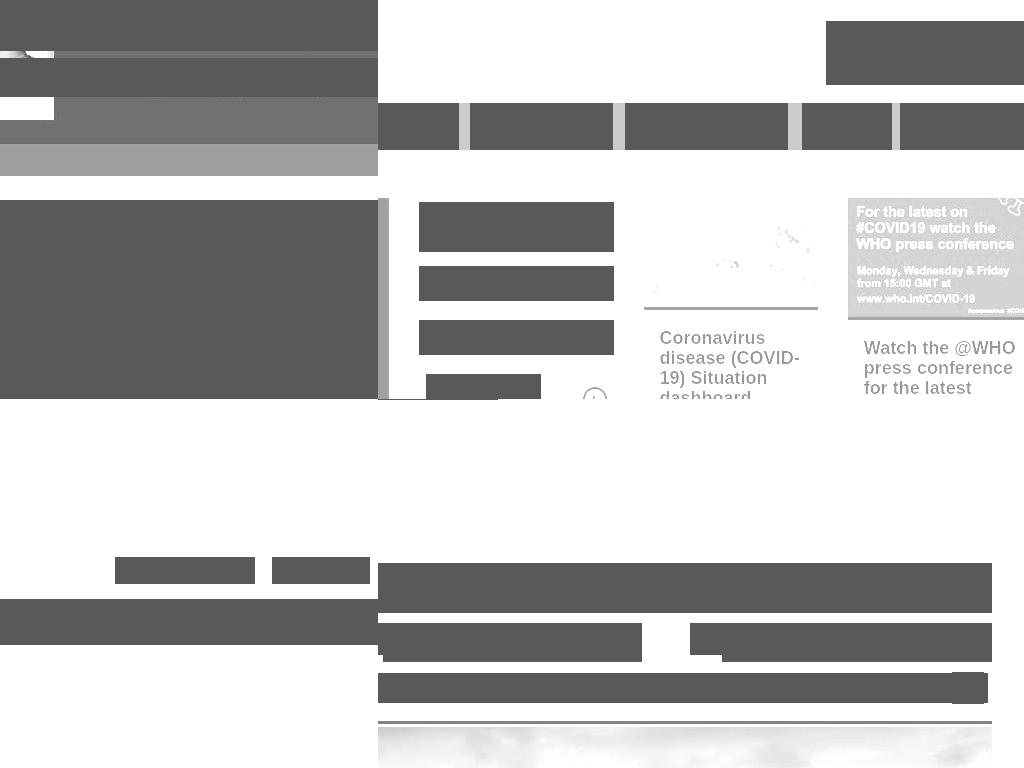button: (847, 198, 1024, 318), (643, 198, 818, 307), (659, 327, 802, 399), (863, 338, 1024, 399), (419, 202, 614, 252), (826, 45, 1024, 85), (625, 103, 788, 150), (828, 47, 1023, 83), (419, 266, 614, 301), (419, 320, 614, 355), (470, 103, 613, 150), (419, 365, 614, 399), (900, 103, 1024, 150), (722, 623, 867, 662), (866, 623, 992, 662), (383, 623, 504, 662), (802, 103, 892, 150), (378, 103, 459, 150), (115, 557, 255, 584), (503, 623, 573, 662), (572, 623, 642, 662), (272, 557, 370, 584)
field: (378, 673, 988, 703), (0, 599, 378, 645)
heading: (0, 0, 378, 51), (659, 327, 802, 399), (863, 338, 1024, 399)
iframe: (0, 200, 378, 399), (378, 563, 992, 613)
image: (847, 198, 1024, 318), (643, 198, 818, 307), (690, 623, 723, 655), (952, 672, 984, 704), (378, 623, 384, 655)
link: (722, 623, 867, 645), (866, 623, 992, 645), (383, 623, 504, 645), (503, 623, 573, 645), (572, 623, 642, 645)
text: (0, 58, 378, 97), (826, 21, 1024, 45), (426, 374, 541, 399), (426, 329, 565, 346), (400, 648, 488, 662), (751, 648, 839, 662), (426, 275, 498, 292), (891, 648, 967, 662), (519, 648, 556, 662), (592, 648, 623, 662), (918, 682, 948, 696)
